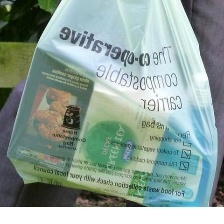plastic_bag: (4, 0, 221, 209)
